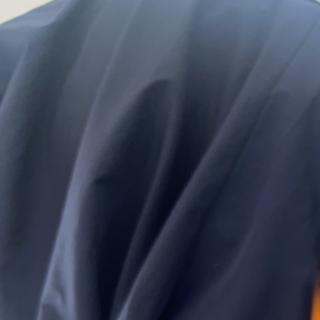fire: (305, 283, 320, 320)
